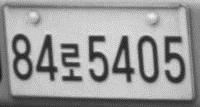0: (137, 34, 159, 83)
4: (111, 34, 135, 83), (35, 33, 58, 81)
5: (163, 35, 186, 84), (87, 34, 109, 82)
8: (11, 32, 32, 80)
로: (60, 42, 83, 81)
